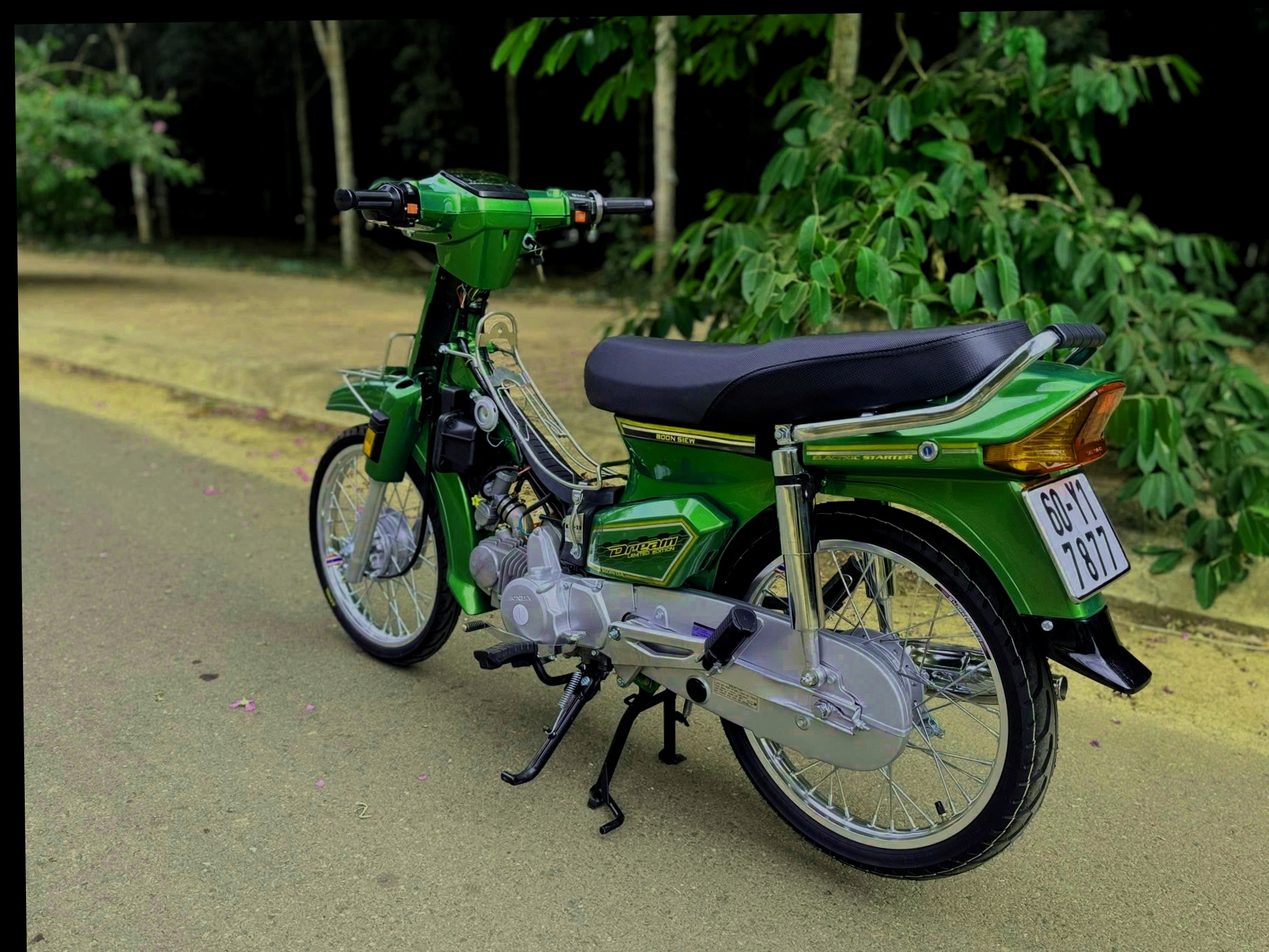Bien-so: (970, 439, 1079, 569)
